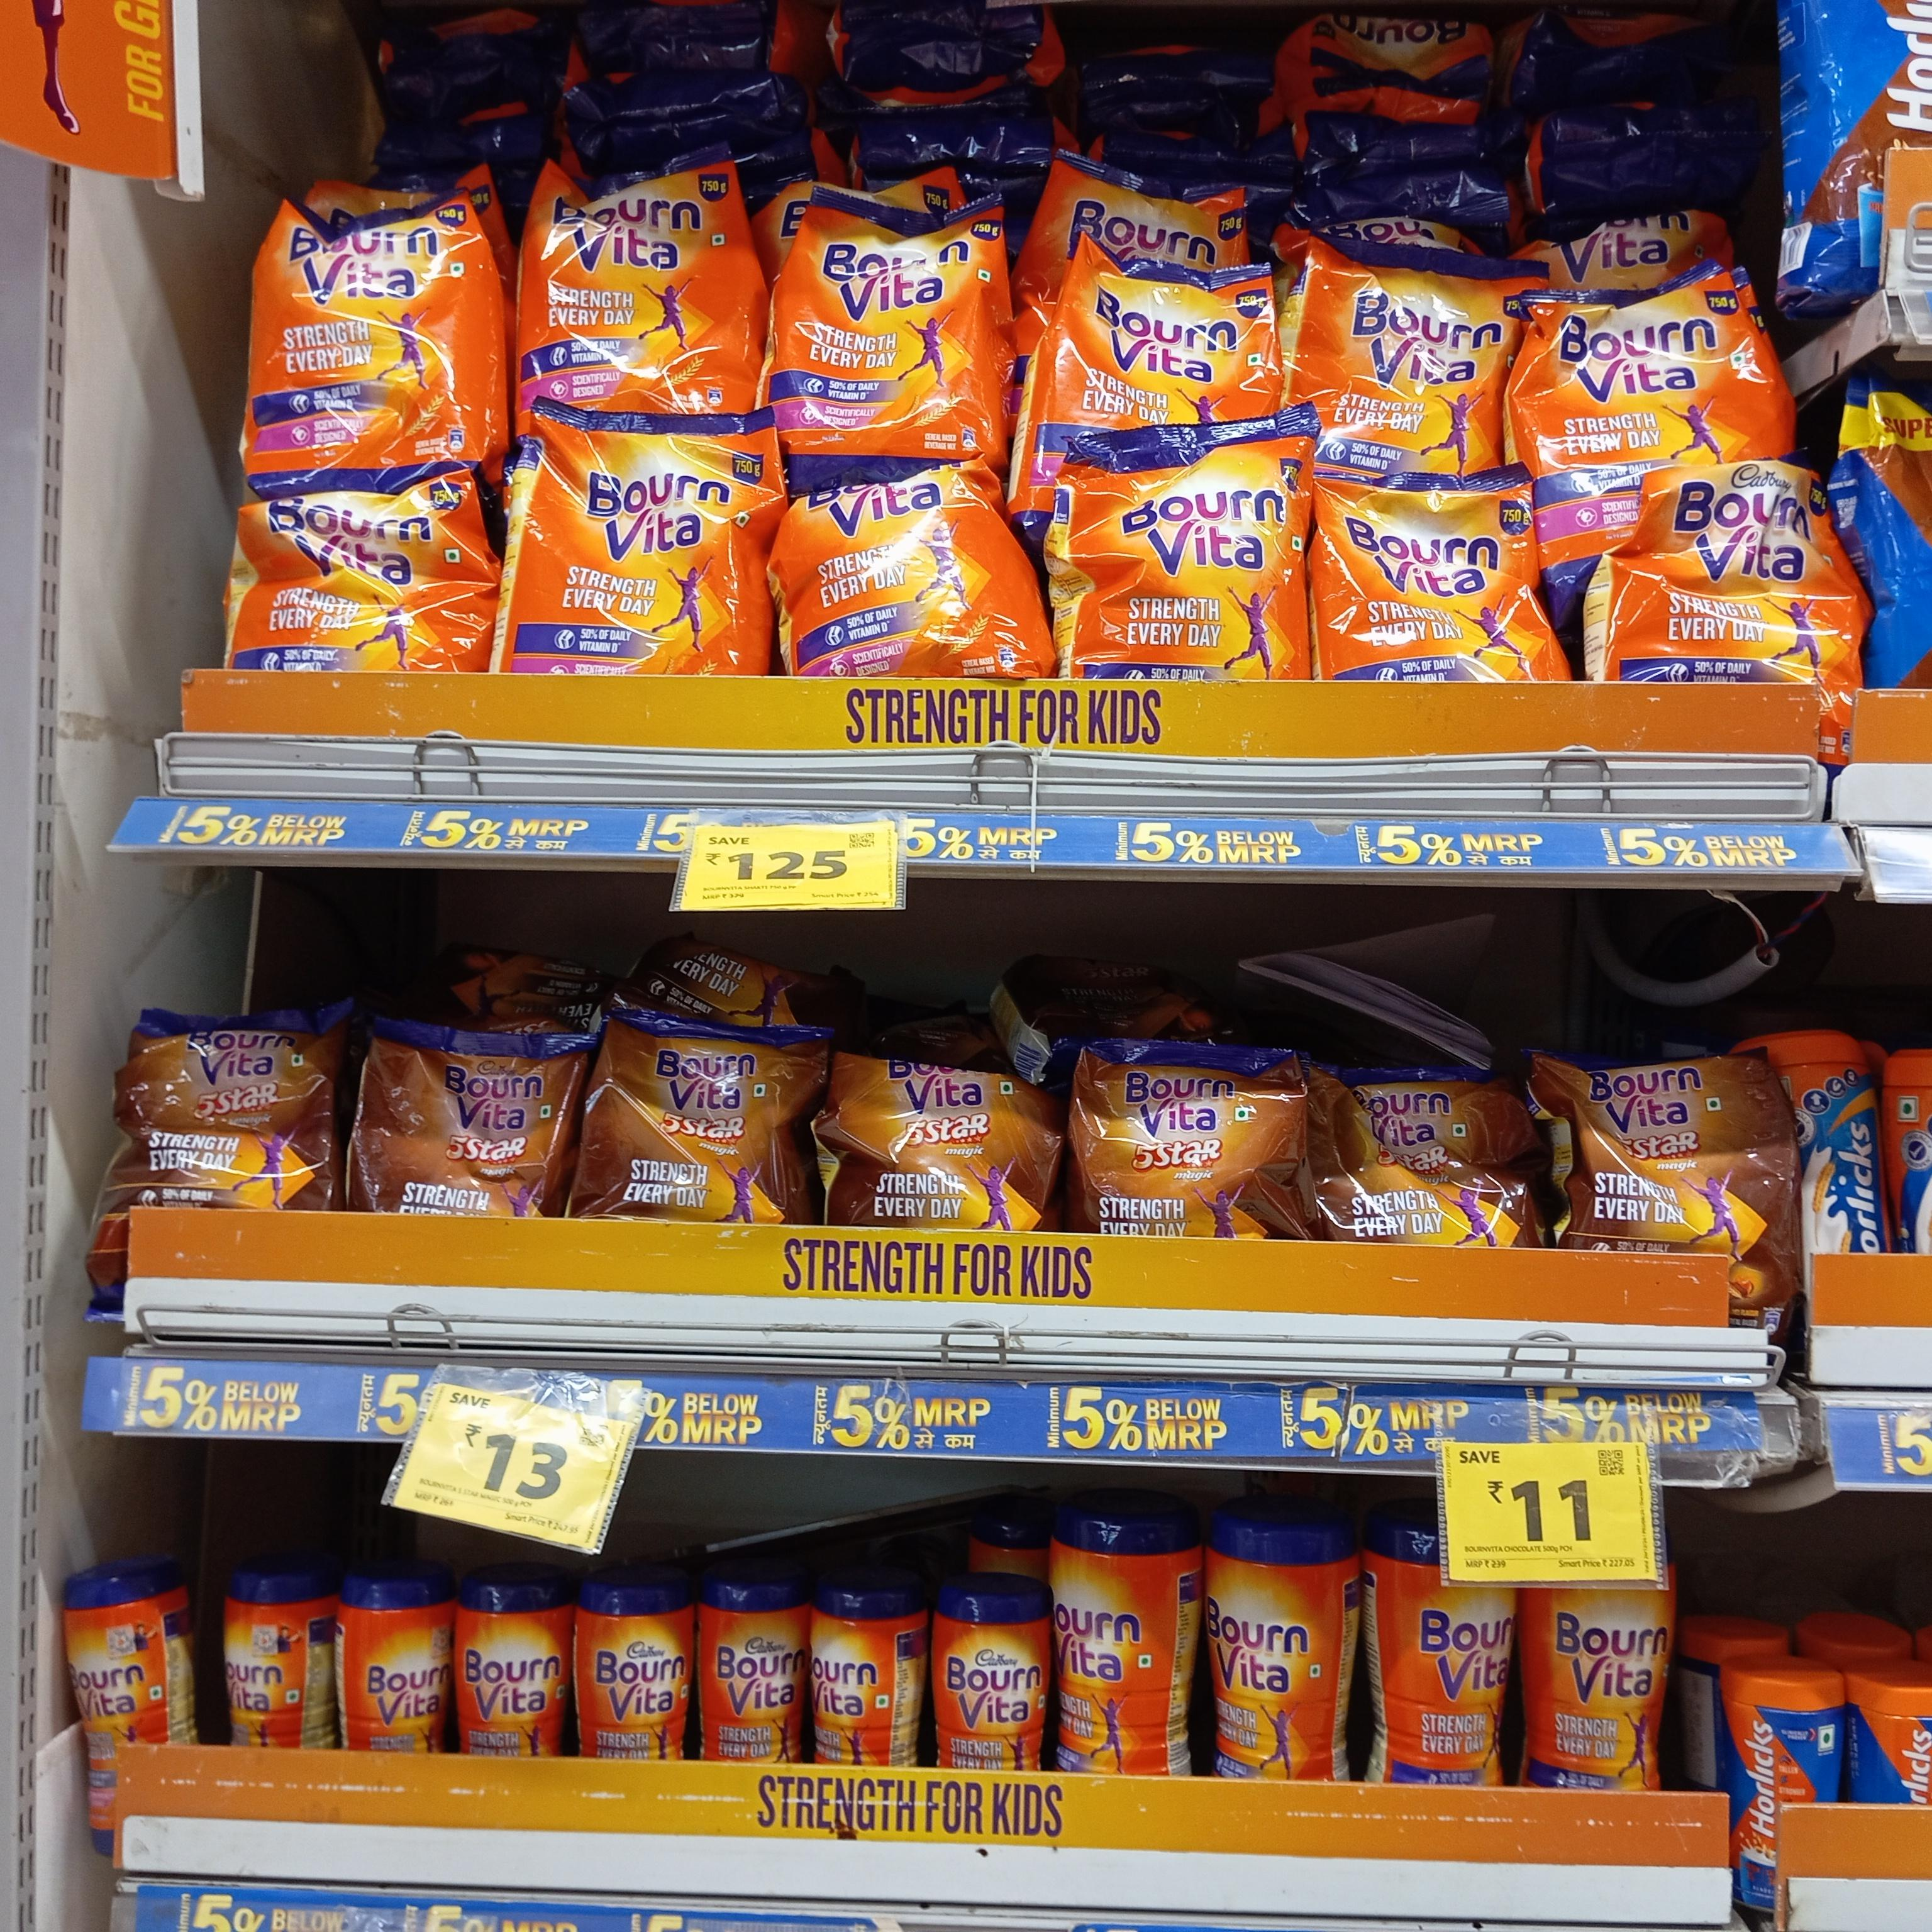BOURN_VITA_200_G_JAR: (67, 1576, 159, 1821), (338, 1576, 453, 1764), (936, 1583, 1044, 1775), (577, 1576, 686, 1762), (460, 1569, 563, 1760), (699, 1582, 800, 1759), (803, 1585, 895, 1762), (219, 1562, 297, 1764)
BOURN_VITA_500_G_JAR: (1201, 1514, 1329, 1783), (1378, 1541, 1513, 1787), (1049, 1516, 1173, 1775), (1530, 1568, 1670, 1796)
BOURN_VITA_750_G_POUCH: (527, 409, 757, 679), (255, 207, 494, 464), (520, 156, 759, 405), (1063, 430, 1290, 686), (784, 191, 994, 458), (1316, 472, 1555, 683), (789, 474, 1030, 679), (226, 488, 476, 674), (1647, 472, 1852, 695), (1527, 276, 1753, 467), (1063, 244, 1284, 426), (1304, 255, 1509, 449)
